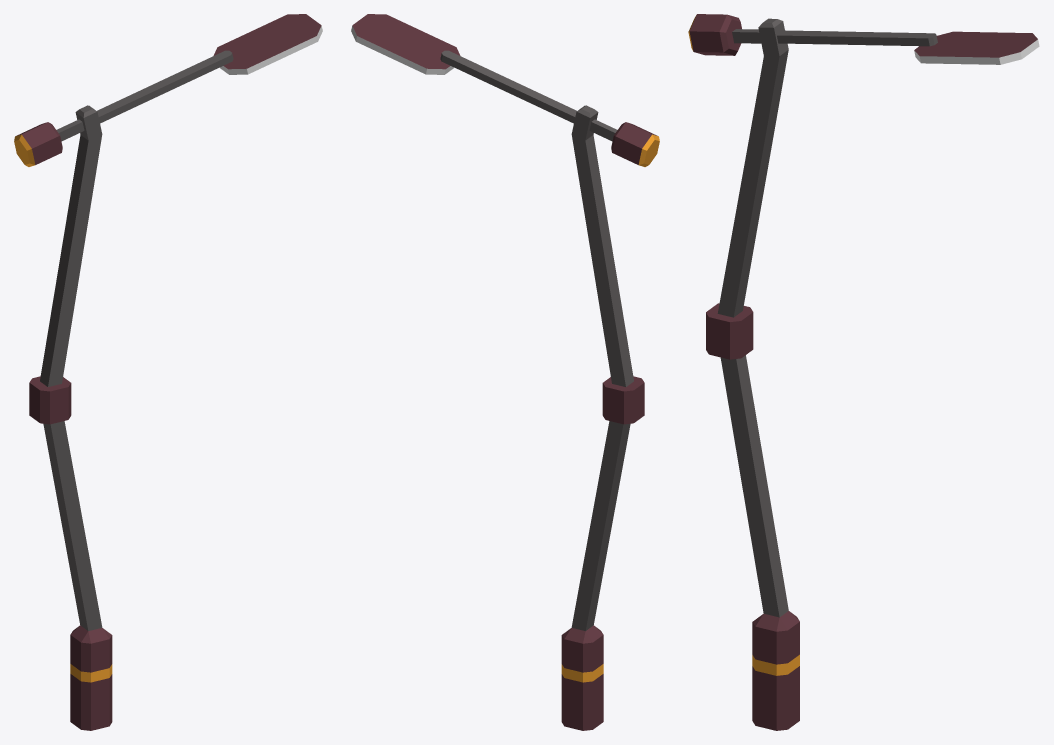
Rendered from scifi-lamp-road.fbx.
3 views of the same model, side by side, from view 1: azimuth 30°, elevation 25°; view 2: azimuth 150°, elevation 25°; view 3: azimuth 330°, elevation 25° (orthographic). The views are drawn at different scales.
Parts seen in each view (by area): view 1: scifi-lamp-road; view 2: scifi-lamp-road; view 3: scifi-lamp-road.
Part boxes in pixels (x1,y1,x2,y2): scifi-lamp-road: [14, 14, 322, 730]; scifi-lamp-road: [351, 14, 659, 730]; scifi-lamp-road: [688, 14, 1039, 730].
Bounding box in the file's own units: 4.46 × 9.34 × 0.7694.
